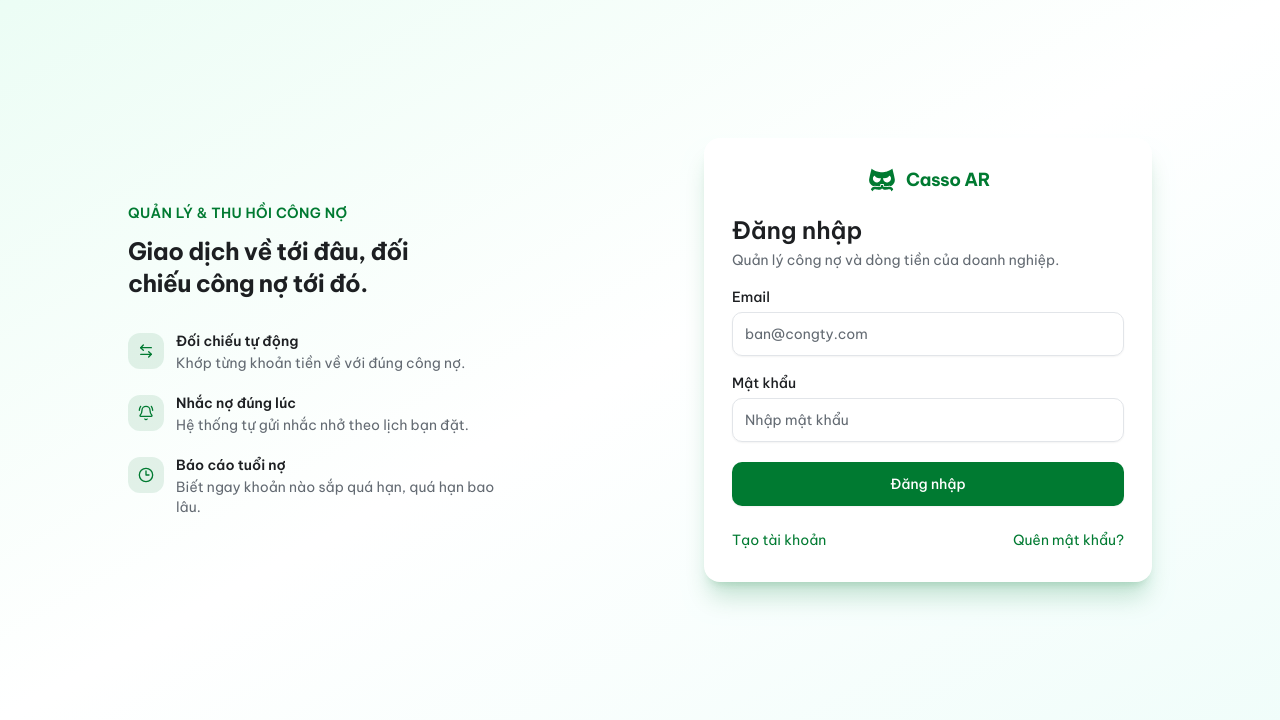
authentication routes › shows an inline, focused error when login fails
In the field labelled "Email": {"x": 928, "y": 334} [732,312,1124,356], type "owner@casso.vn"
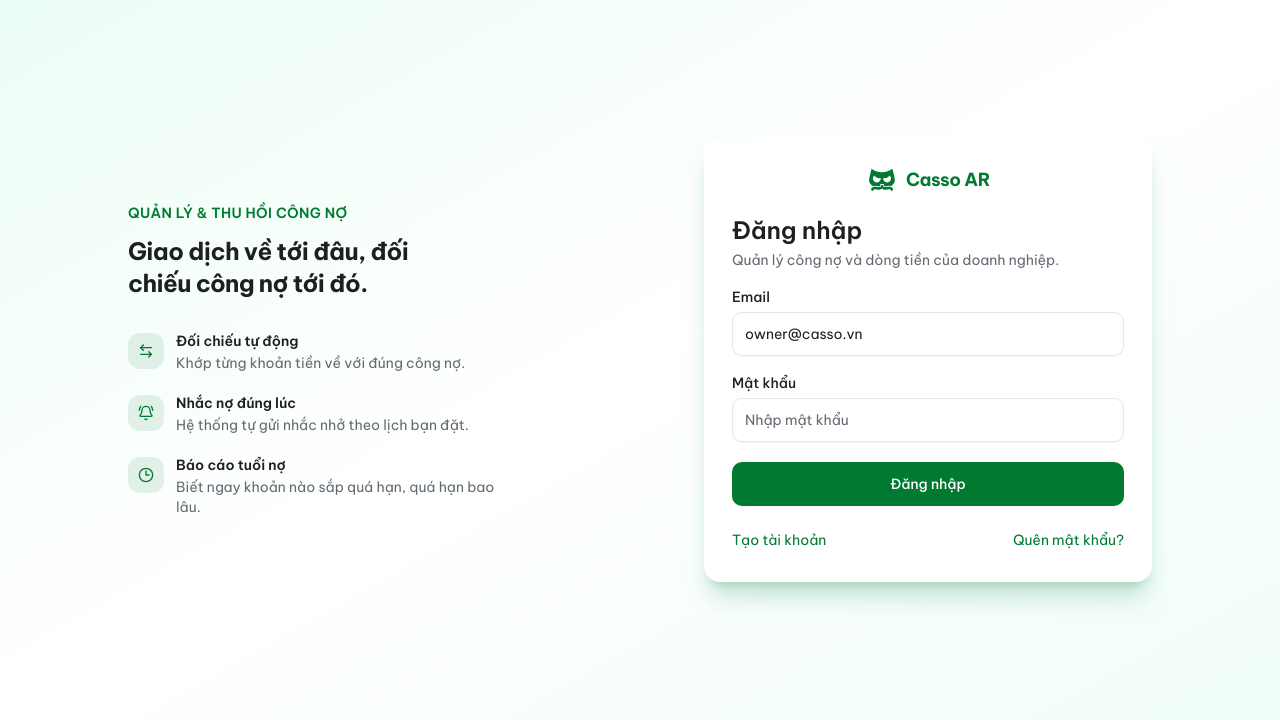
In the password field labelled "Mật khẩu": {"x": 928, "y": 420} [732,398,1124,442], type "wrong"
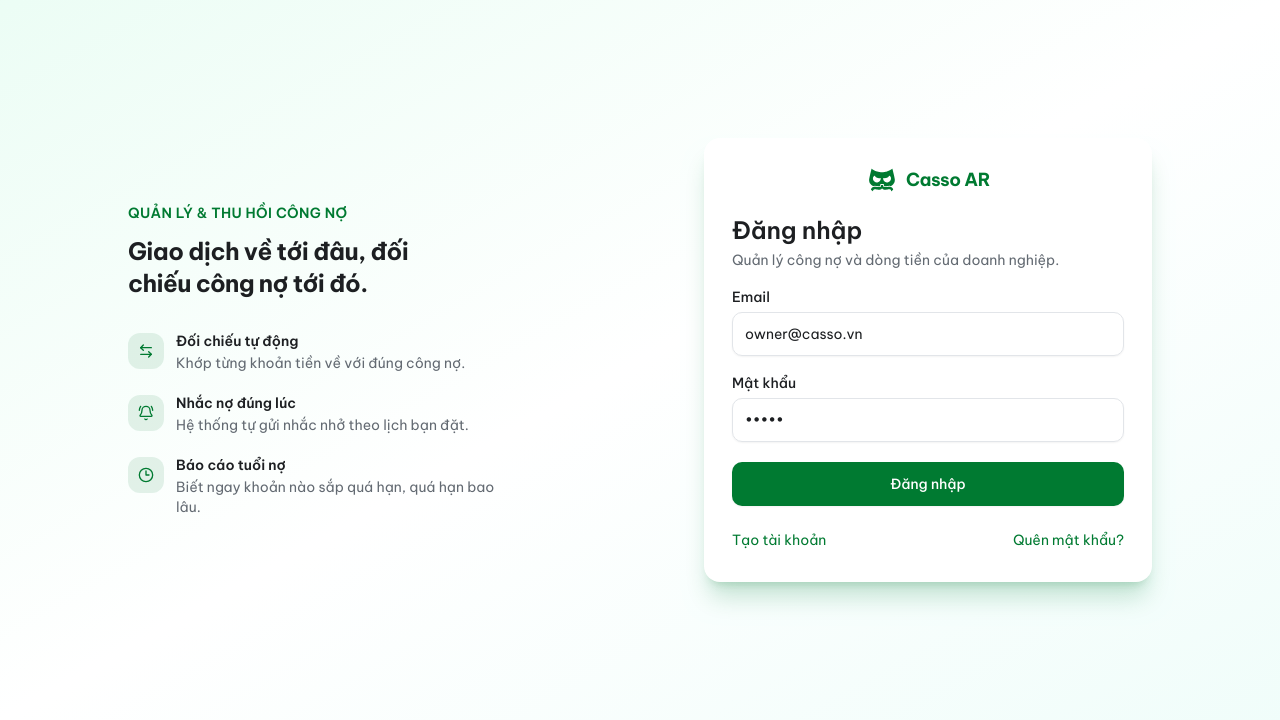
Click the button "Đăng nhập": {"x": 928, "y": 484} [732,462,1124,506]
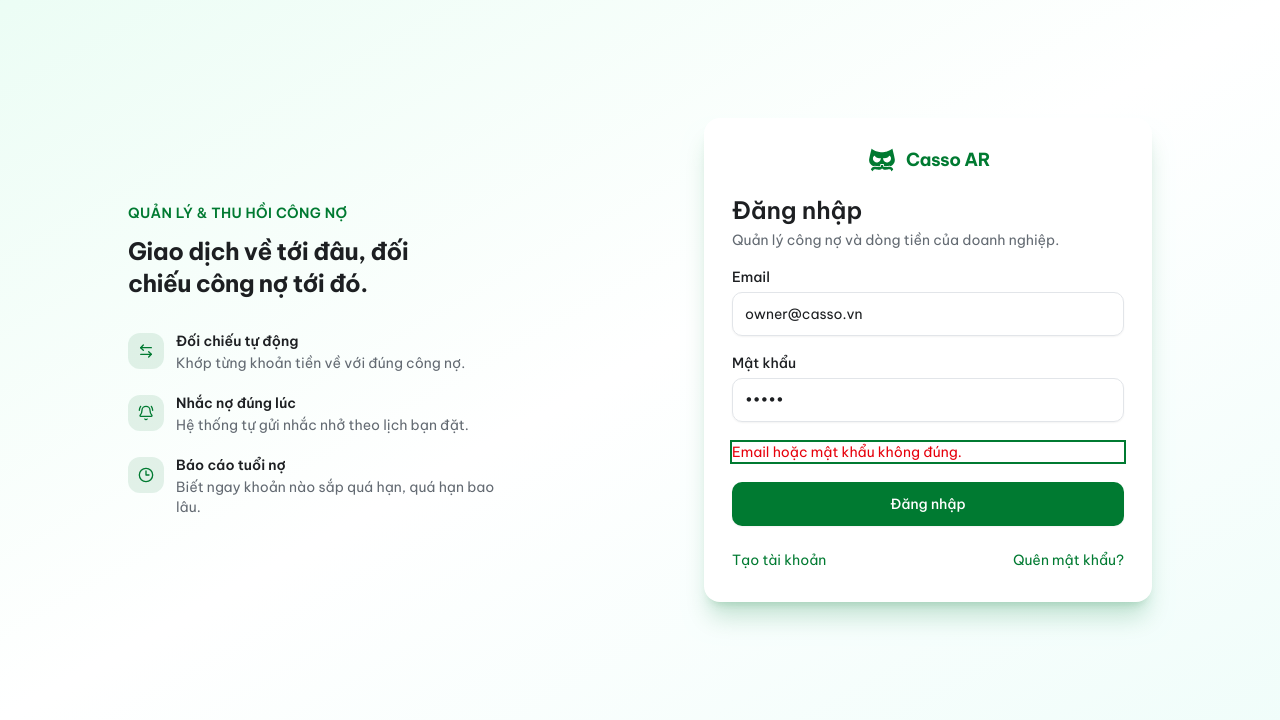
Result: the message reads "Email hoặc mật khẩu không đúng." at [732,443,962,461]
